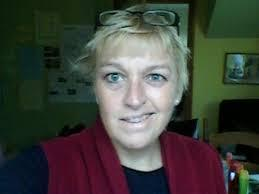strokeEyeWeak: (94, 59, 173, 90)
strokeMouthMid: (112, 108, 160, 132)
